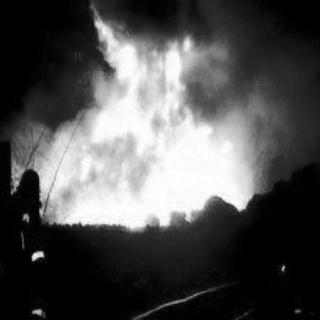Fire: (45, 38, 252, 224)
